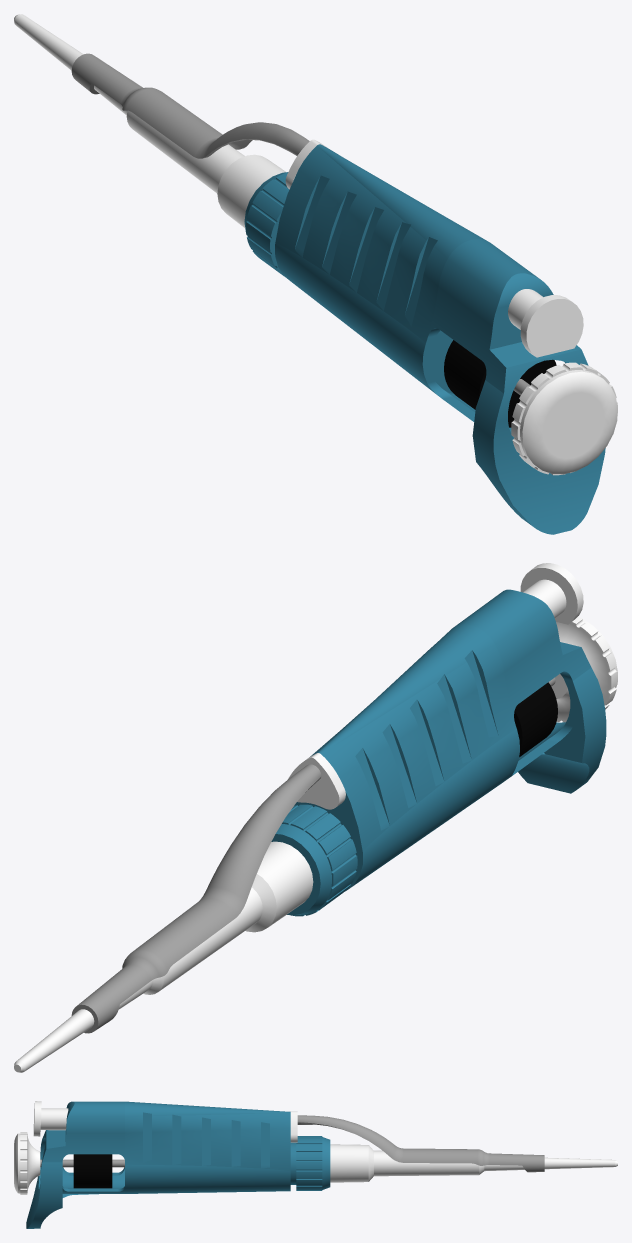
Rendered from pipette_down.obj.
3 renders of one model, top to bottom at view 1: azimuth 30°, elevation 25°; view 2: azimuth 150°, elevation 25°; view 3: azimuth 270°, elevation 25°, orthographic. The views are drawn at different scales.
Parts seen in each view (by area): view 1: Body1, Body12, Body15, Body13; view 2: Body1, Body15, Body12, Body13, Body14; view 3: Body1, Body15, Body12, Body13, Body14.
Part boxes in pixels (bbox=[...]): Body1: bbox=[14, 14, 605, 534]; Body12: bbox=[511, 362, 617, 475]; Body15: bbox=[71, 53, 309, 158]; Body13: bbox=[444, 340, 556, 427]; Body1: bbox=[14, 563, 606, 1072]; Body15: bbox=[71, 764, 321, 1033]; Body12: bbox=[548, 617, 617, 722]; Body13: bbox=[514, 682, 557, 757]; Body14: bbox=[288, 753, 345, 809]; Body1: bbox=[26, 1101, 617, 1228]; Body15: bbox=[297, 1115, 544, 1172]; Body12: bbox=[14, 1132, 124, 1194]; Body13: bbox=[73, 1154, 112, 1188]; Body14: bbox=[290, 1111, 297, 1142].
Bounding box in the file's own units: 2.75 × 5.29 × 23.51.
